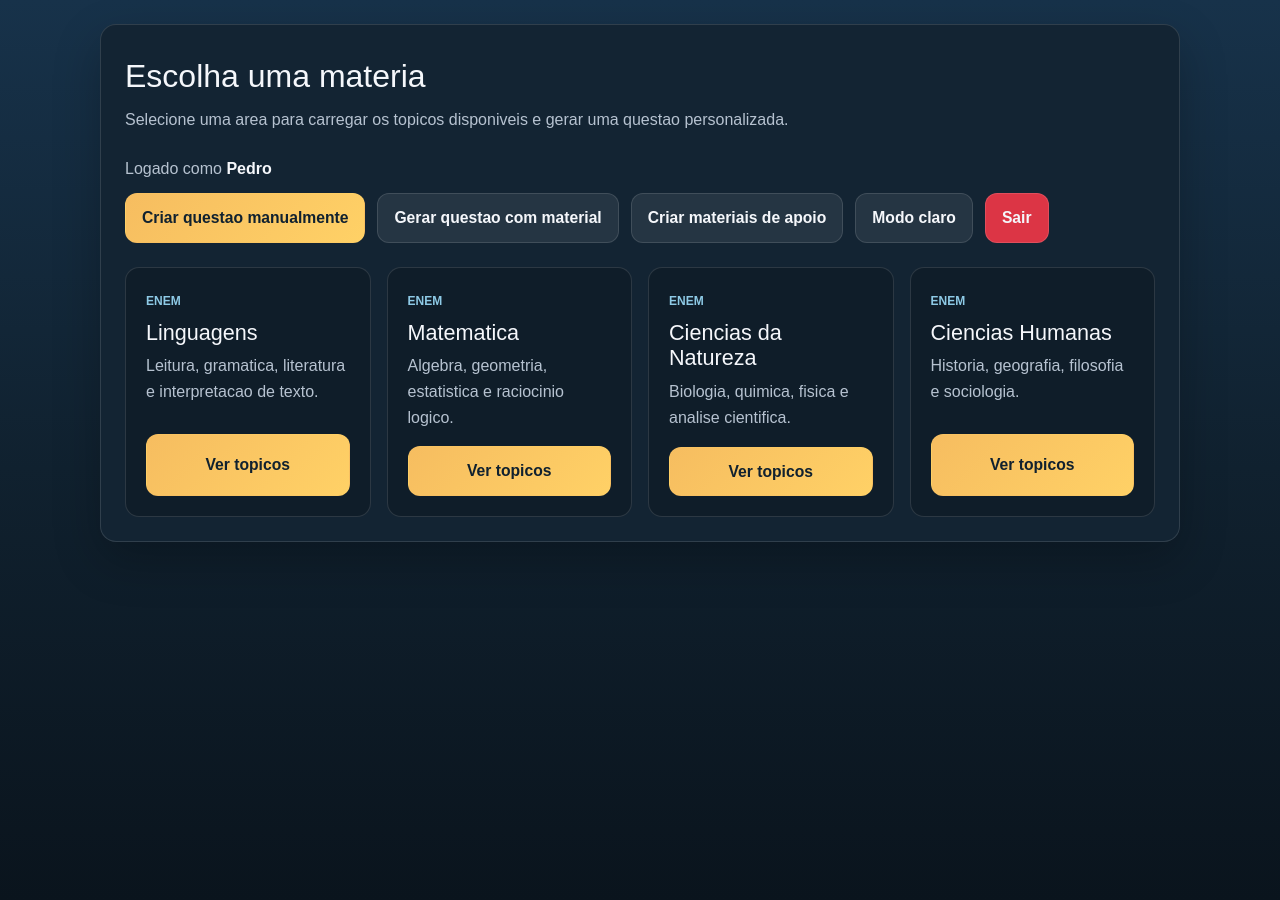
Test: navigates from subjects home to question generation with support material
Click the button "Gerar questao com material" at x=498, y=218, box top-left (377, 193), bottom-right (619, 242)
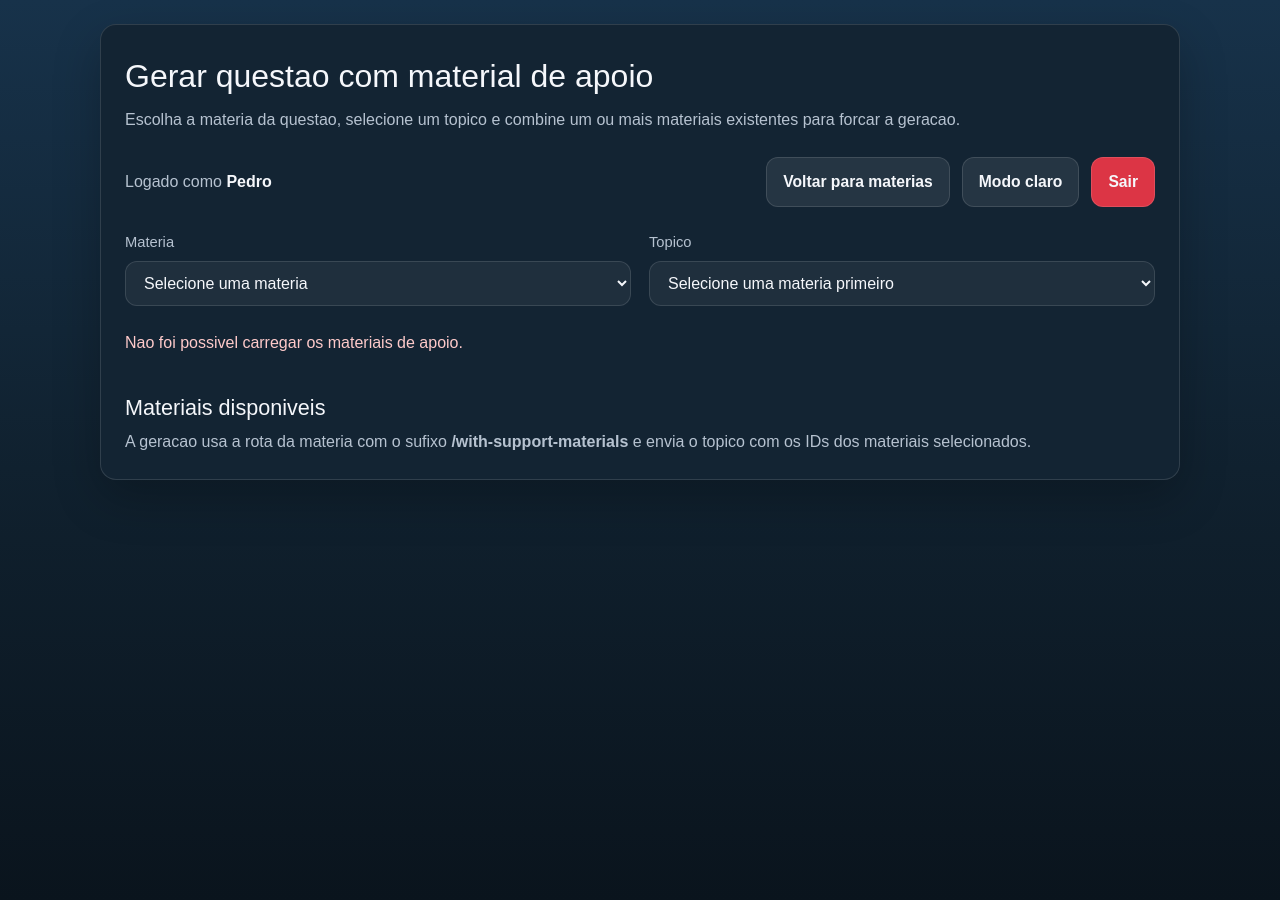
expect the heading "Gerar questao com material de apoio" is shown: met, box top-left (125, 58), bottom-right (653, 94)
